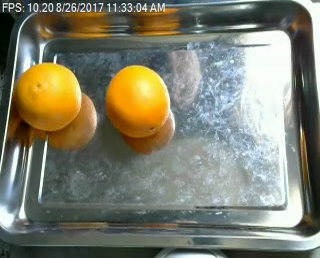Orange: (14, 62, 81, 132), (106, 65, 170, 137)
